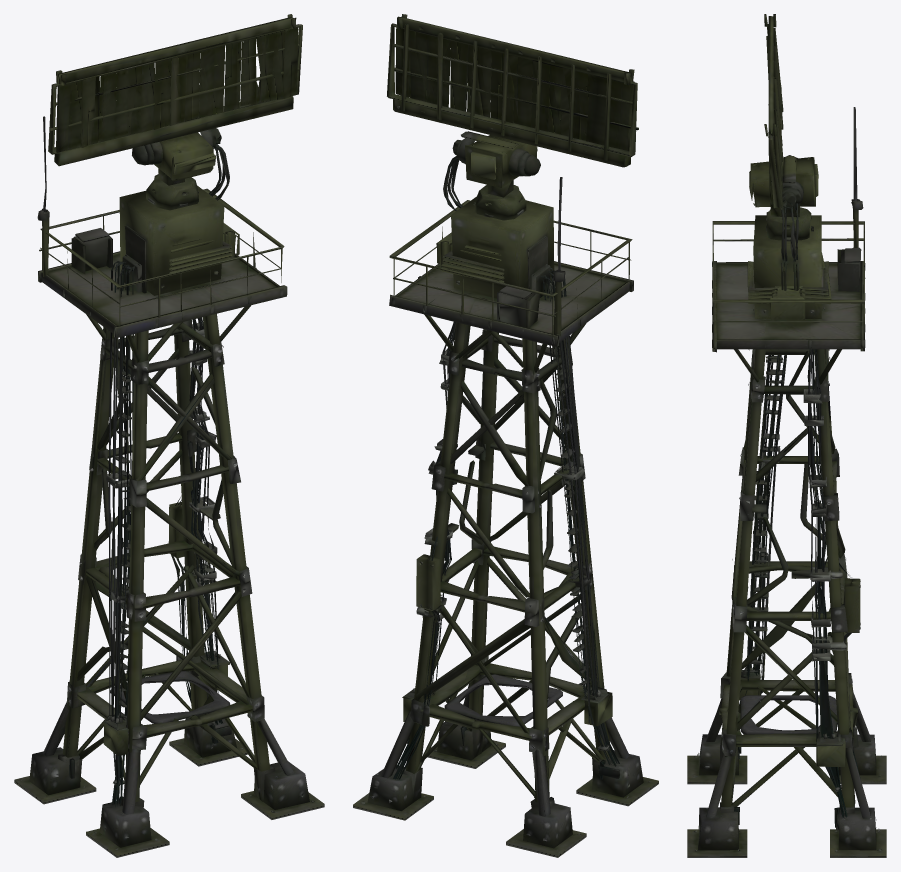
Rendered from radar_lattice.glb.
The picture shows the model from 3 angles, left to right: view 1: azimuth 30°, elevation 25°; view 2: azimuth 150°, elevation 25°; view 3: azimuth 270°, elevation 25°; orthographic projection. The views are drawn at different scales.
Parts seen in each view (by area): view 1: radar_lattice; view 2: radar_lattice; view 3: radar_lattice.
Boxes of the visible parts, x1=… form: radar_lattice: x1=14, y1=14, x2=324, y2=857; radar_lattice: x1=353, y1=14, x2=658, y2=857; radar_lattice: x1=687, y1=14, x2=886, y2=857.
Bounding box in the file's own units: 0.3306 × 0.9507 × 0.2329.
Materials: 1 (1 with a texture image).
